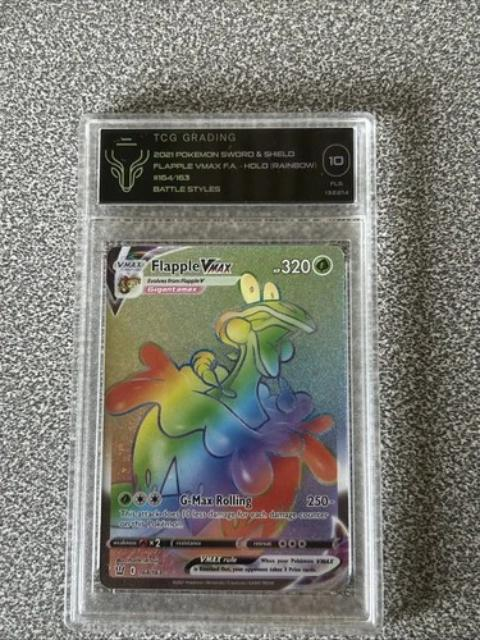Card: (97, 240, 354, 595)
Name: (146, 254, 237, 277)
